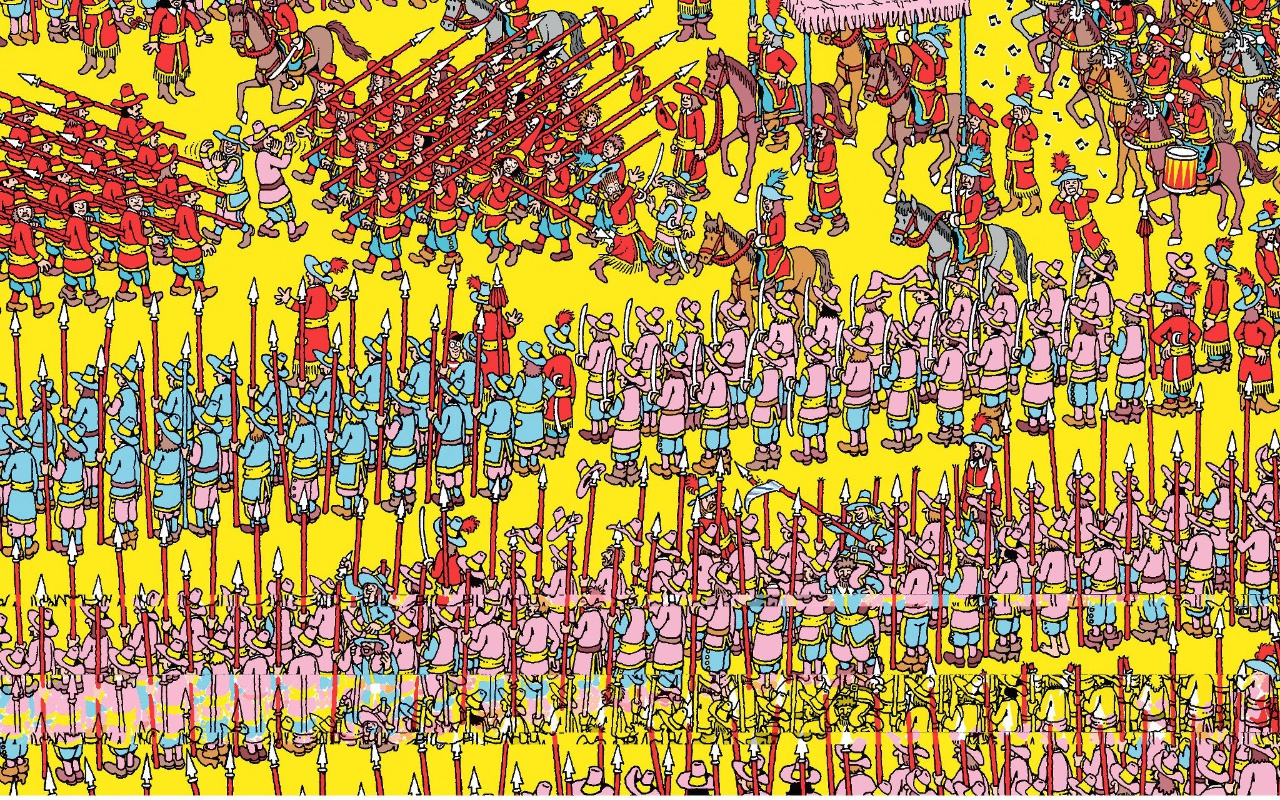waldo: (439, 330, 463, 367)
